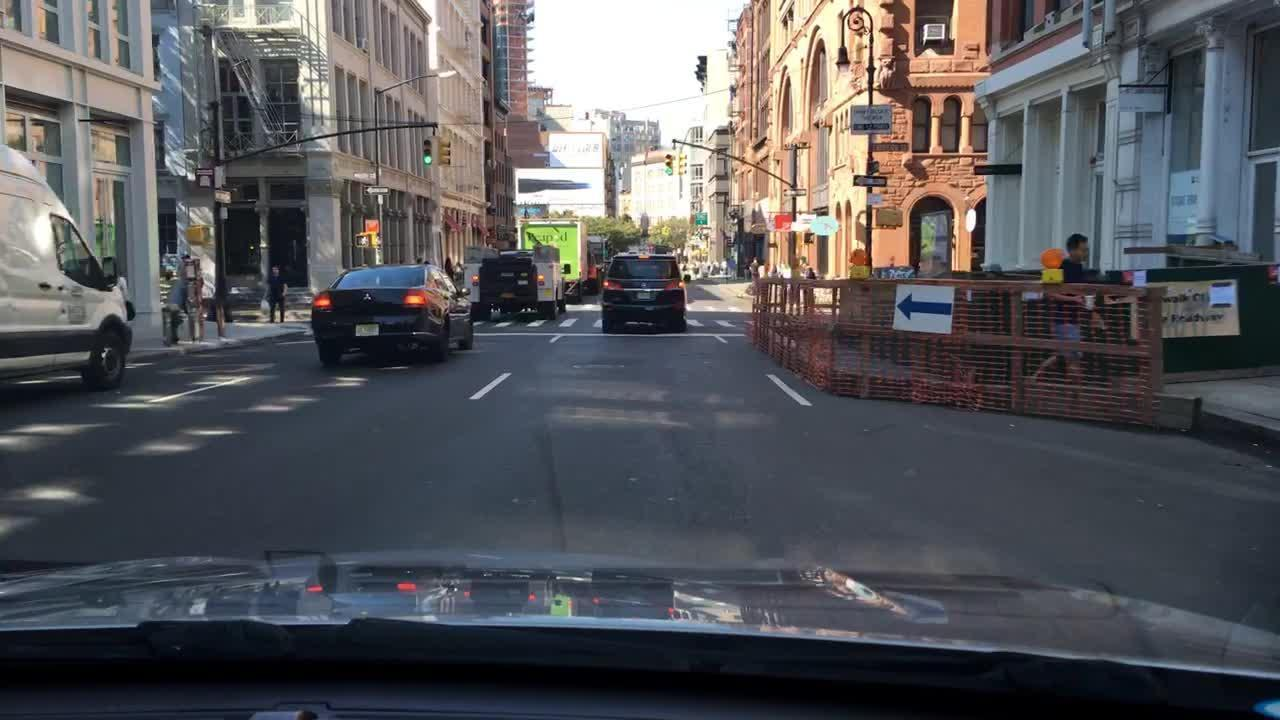Mitsubishi: (359, 288, 377, 306)
